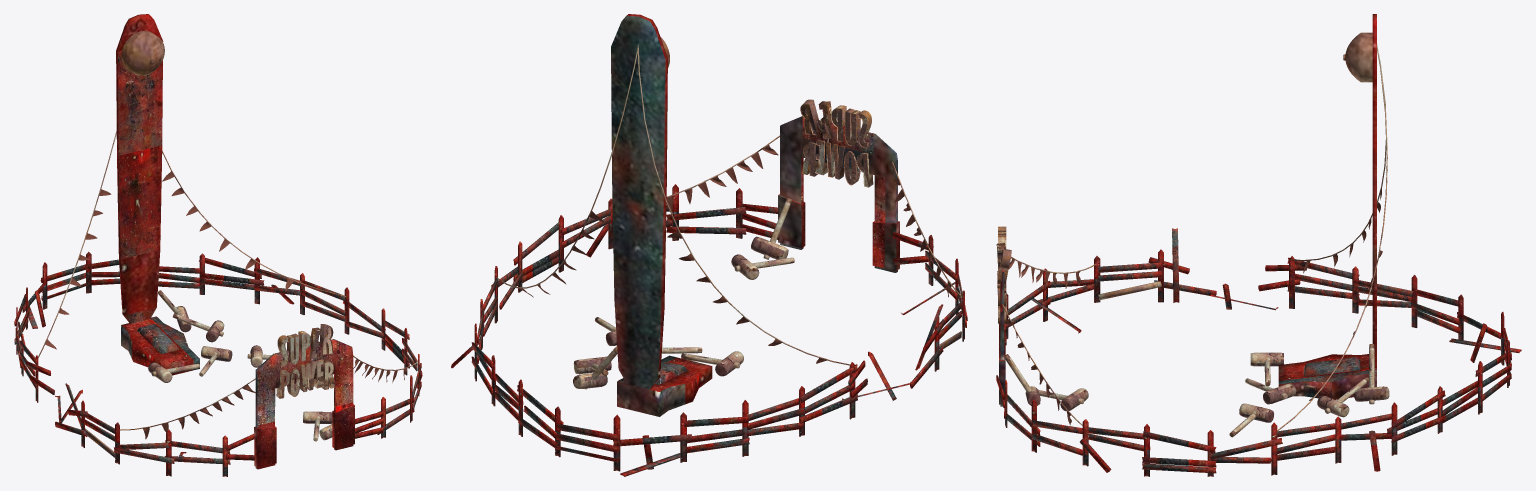
Rendered from hameer.fbx.
3 views of the same model, side by side, from view 1: azimuth 30°, elevation 25°; view 2: azimuth 150°, elevation 25°; view 3: azimuth 270°, elevation 25° (orthographic). The views are drawn at different scales.
Visible parts, largest first — view 1: hammerhop9; view 2: hammerhop9; view 3: hammerhop9.
Part boxes in pixels (left/top/right/bottom): hammerhop9: left=14, top=14, right=422, bottom=476; hammerhop9: left=451, top=14, right=967, bottom=476; hammerhop9: left=996, top=14, right=1521, bottom=476.
Size of the model in its own units: 22802 by 21450 by 27319.
Materials: 3 (2 with a texture image).
